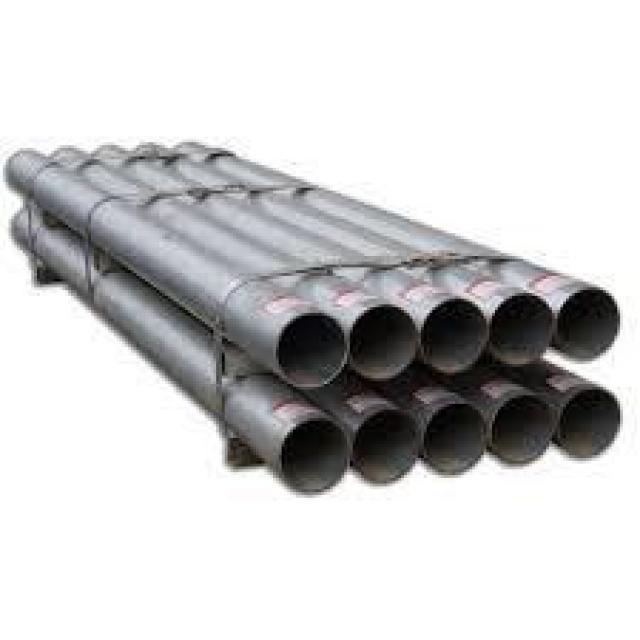pipe: (344, 302, 424, 385), (350, 406, 427, 491), (275, 310, 352, 393), (277, 415, 354, 498), (418, 296, 492, 379), (554, 285, 625, 365), (556, 384, 625, 464), (485, 290, 556, 367), (421, 401, 492, 478), (490, 393, 558, 470)
